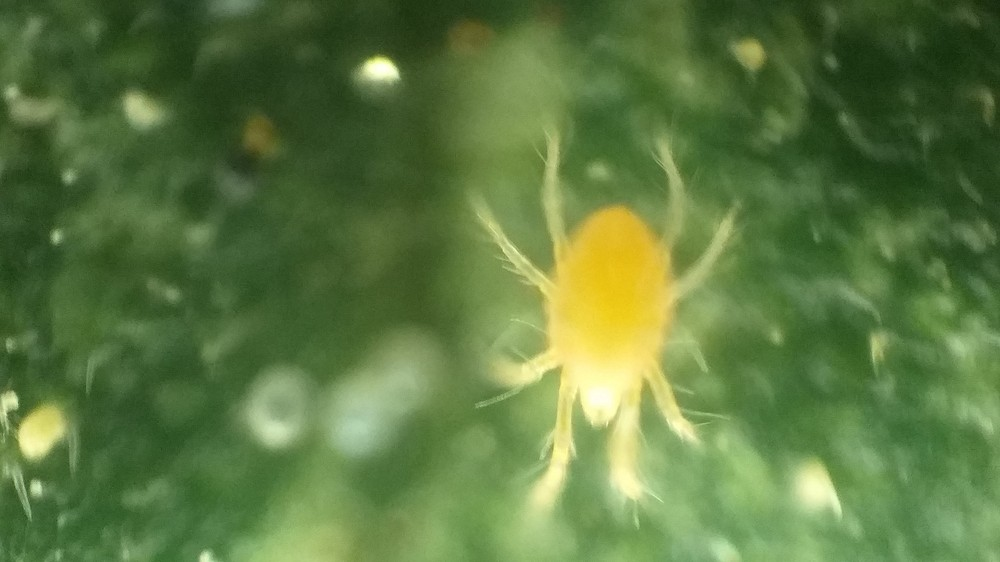Aracnido Rojo: (444, 116, 767, 526)
